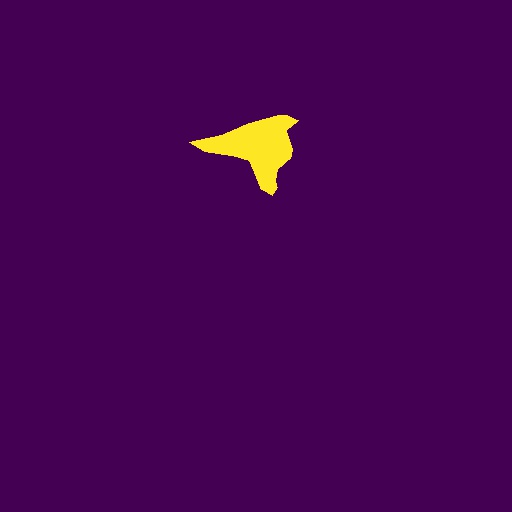Gliomia_tumour: (189, 115, 299, 196)
